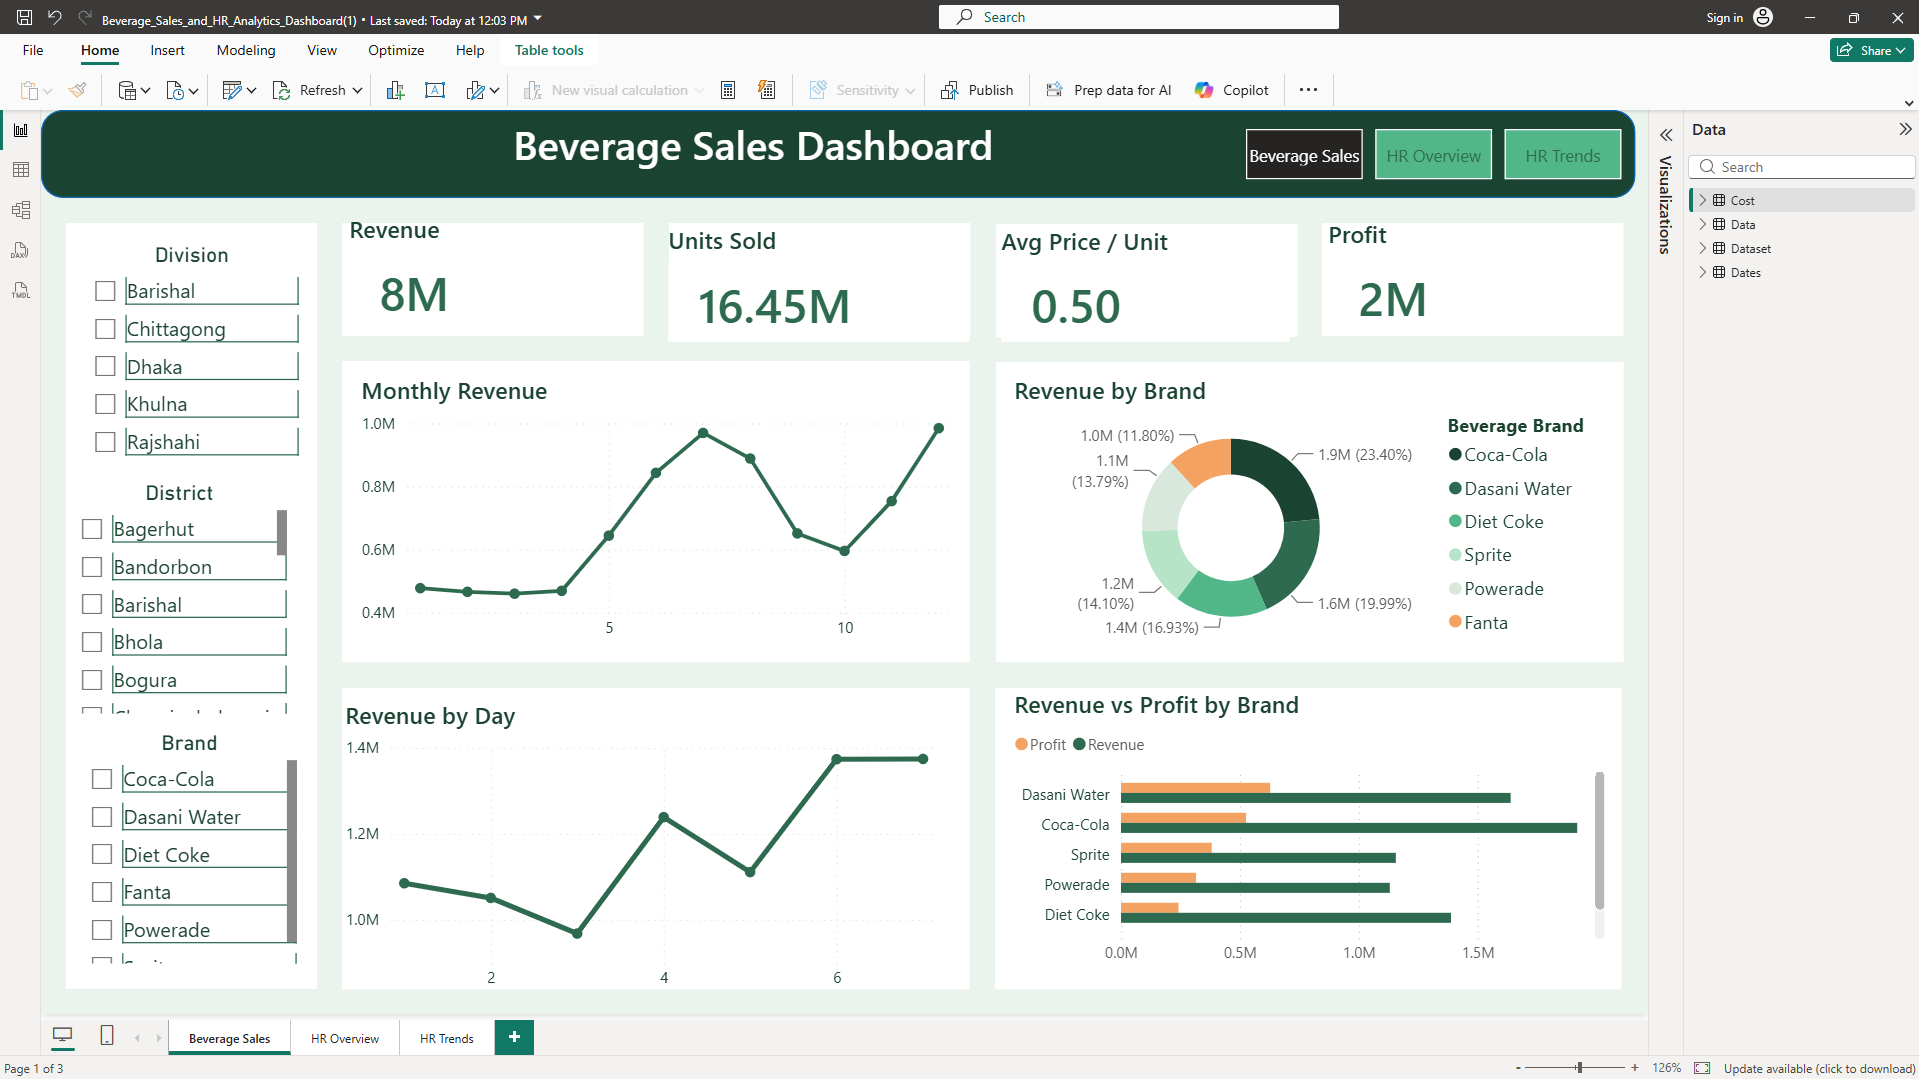

Layout of this report page (visuals, bound fields, positions):
{"tool":"powerbi","page":{"name":"Beverage Sales","canvas":[1280,720],"ordinal":0},"visuals":[{"type":"shape","box":[0,0,1270,70],"z":0},{"type":"shape","box":[20,90,200,610],"z":1000},{"type":"shape","box":[240,90,240,90],"z":2000},{"type":"shape","box":[500,90,240,90],"z":3000},{"type":"shape","box":[760.6,90.6,240,90],"z":4000},{"type":"shape","box":[1020,90,240,90],"z":5000},{"type":"shape","box":[240,200,500,240],"z":6000},{"type":"shape","box":[760.6,200.7,500,239.5],"z":7000},{"type":"shape","box":[240,460,500,240],"z":8000},{"type":"shape","box":[760,460,499,240],"z":9000},{"type":"textbox","box":[174.8,0,785.9,69.9],"z":10000},{"type":"cardVisual","title":"Revenue","fields":{"Data":["Cost.Revenue"]},"box":[240.2,81.8,240.2,98.5],"z":11000},{"type":"cardVisual","title":"Units Sold","fields":{"Data":["Cost.Units Sold"]},"box":[494.4,90.6,250.7,99.4],"z":12000},{"type":"cardVisual","title":"Avg Price / Unit","fields":{"Data":["Cost.Avg Price/Unit"]},"box":[760.1,91.5,240.2,98.5],"z":13000},{"type":"cardVisual","title":"Profit","fields":{"Data":["Cost.Profit"]},"box":[1020.5,86.2,240.2,98.5],"z":14000},{"type":"lineChart","title":"Monthly Revenue","fields":{"Y":["Cost.Revenue"],"Category":["Dates.Month"]},"box":[250,210,480,220],"z":15000},{"type":"donutChart","title":"Revenue by Brand","fields":{"Y":["Cost.Revenue"],"Category":["Data.Beverage Brand"]},"box":[770,210,480,220],"z":16000},{"type":"lineChart","title":"Revenue by Day","fields":{"Y":["Cost.Revenue"],"Category":["Dates.Weekday"]},"box":[237.7,469.2,480.2,240],"z":17000},{"type":"clusteredBarChart","title":"Revenue vs Profit by Brand","fields":{"Category":["Data.Beverage Brand"],"Y":["Cost.Profit","Cost.Revenue"]},"box":[770,460.7,480.4,228.7],"z":18000},{"type":"slicer","title":"Division","fields":{"Values":["Data.Division"]},"box":[30,105,180,190],"z":19000},{"type":"slicer","title":"District","fields":{"Values":["Data.District"]},"box":[19.7,294.5,181,190.8],"z":20000},{"type":"slicer","title":"Brand","fields":{"Values":["Data.Beverage Brand"]},"box":[28,493.6,181,190.8],"z":21000},{"type":"pageNavigator","box":[960,15,300,40],"z":21001}]}

Visuals, with their boxes on the page's 1280x720 design canvas (x1, y1, x2, y2). These are canvas units, not pixel positions in the 1919x1079 screenshot, which may show the page scaled, cropped or inside an application window:
shape: [0, 0, 1270, 70]
shape: [20, 90, 220, 700]
shape: [240, 90, 480, 180]
shape: [500, 90, 740, 180]
shape: [761, 91, 1001, 181]
shape: [1020, 90, 1260, 180]
shape: [240, 200, 740, 440]
shape: [761, 201, 1261, 440]
shape: [240, 460, 740, 700]
shape: [760, 460, 1259, 700]
textbox: [175, 0, 961, 70]
"Revenue" cardVisual: [240, 82, 480, 180]
"Units Sold" cardVisual: [494, 91, 745, 190]
"Avg Price / Unit" cardVisual: [760, 92, 1000, 190]
"Profit" cardVisual: [1020, 86, 1261, 185]
"Monthly Revenue" lineChart: [250, 210, 730, 430]
"Revenue by Brand" donutChart: [770, 210, 1250, 430]
"Revenue by Day" lineChart: [238, 469, 718, 709]
"Revenue vs Profit by Brand" clusteredBarChart: [770, 461, 1250, 689]
"Division" slicer: [30, 105, 210, 295]
"District" slicer: [20, 294, 201, 485]
"Brand" slicer: [28, 494, 209, 684]
pageNavigator: [960, 15, 1260, 55]
